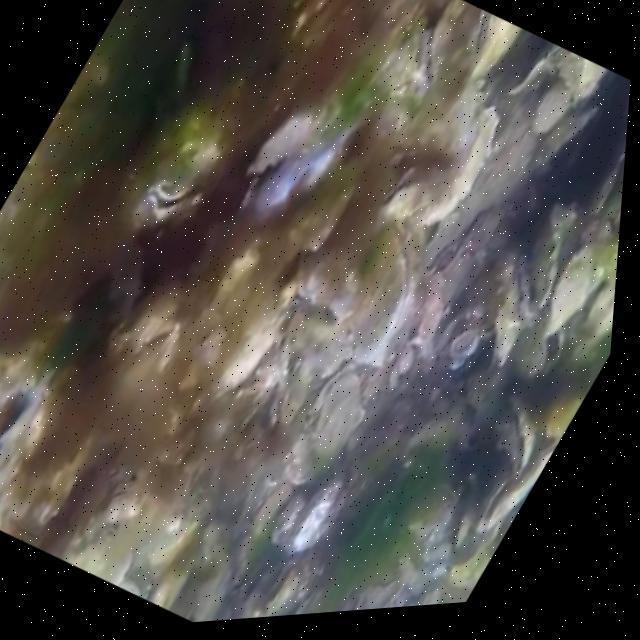Oyster-Closed: (411, 109, 496, 225), (351, 222, 415, 358), (467, 9, 523, 75), (490, 392, 534, 474), (595, 169, 624, 225), (512, 254, 534, 322), (105, 480, 140, 522)
Oyster-Indeterminate: (114, 94, 221, 225), (542, 246, 616, 335), (528, 204, 584, 314), (429, 0, 481, 115), (309, 374, 362, 463), (529, 107, 596, 173), (147, 532, 201, 609), (56, 534, 131, 587), (288, 486, 346, 550), (531, 83, 573, 132), (199, 519, 229, 564), (416, 585, 438, 606)
Oyster-Open: (238, 108, 345, 214), (480, 445, 556, 529), (374, 28, 432, 88), (511, 318, 566, 379), (379, 164, 435, 220), (265, 562, 299, 613), (593, 220, 615, 242)
